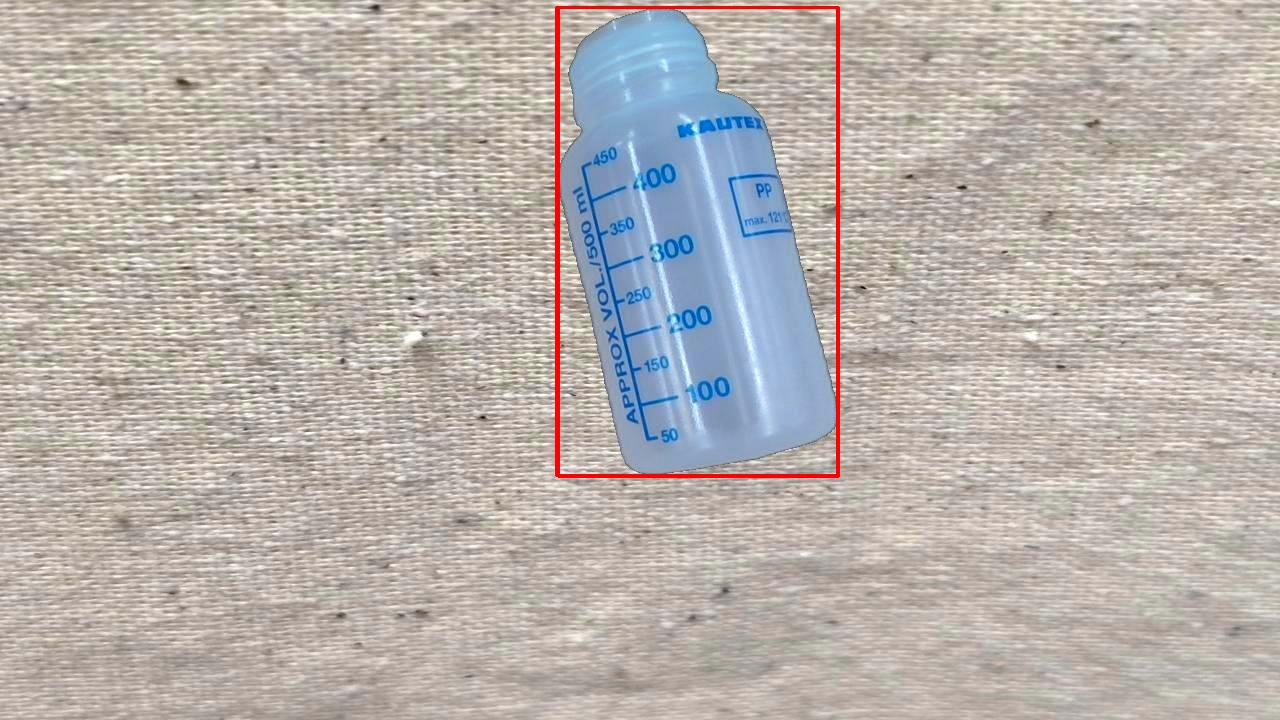cup: (556, 7, 837, 475), (558, 7, 838, 476)
